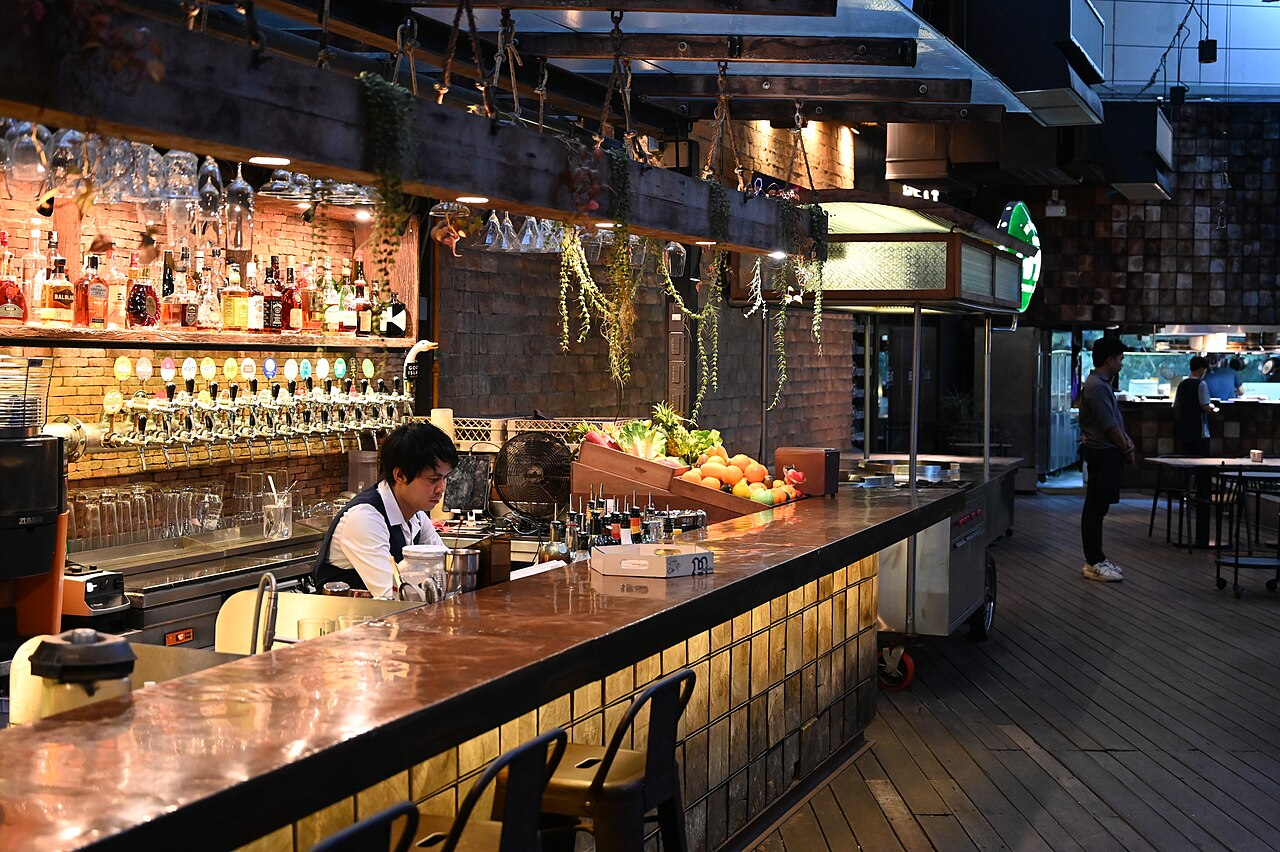unknown_bottle: (0, 233, 27, 324), (125, 260, 159, 328), (43, 255, 76, 325), (81, 255, 108, 329), (220, 262, 248, 331), (263, 256, 285, 331), (245, 258, 266, 331), (353, 257, 371, 336), (642, 502, 663, 544), (628, 495, 643, 544)
